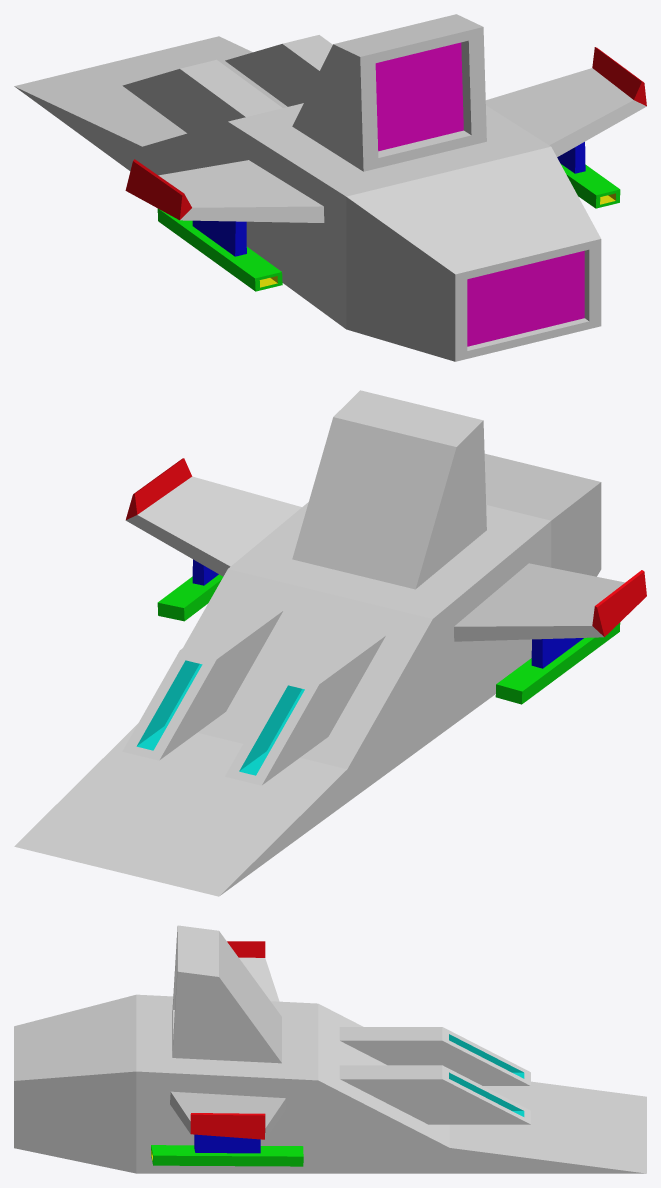
The model's file is EnemyShipBasic.fbx.
3 views of the same model, one above another, from view 1: azimuth 30°, elevation 25°; view 2: azimuth 150°, elevation 25°; view 3: azimuth 270°, elevation 25° (orthographic). The views are drawn at different scales.
Visible parts, largest first — view 1: Cube; view 2: Cube; view 3: Cube.
Boxes of the visible parts, left/top/right/bottom form: Cube: left=14, top=14, right=646, bottom=361; Cube: left=14, top=390, right=646, bottom=896; Cube: left=14, top=925, right=646, bottom=1173.
Bounding box in the file's own units: 467 × 226 × 696.
